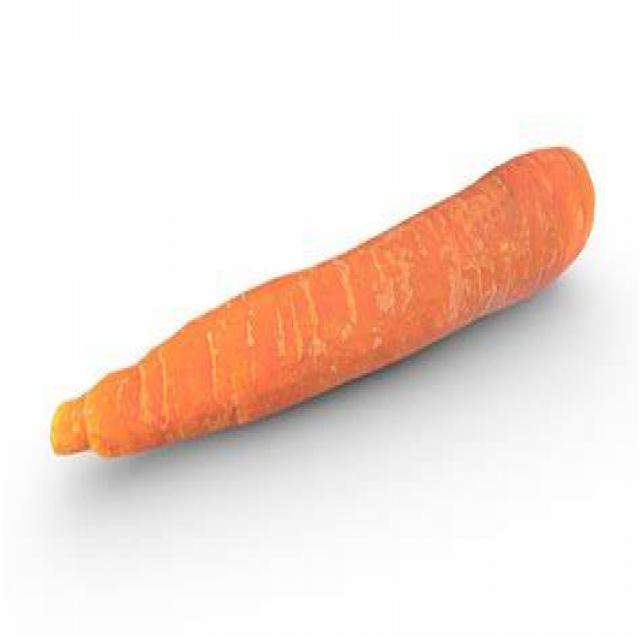Carrot: (44, 147, 598, 459)
